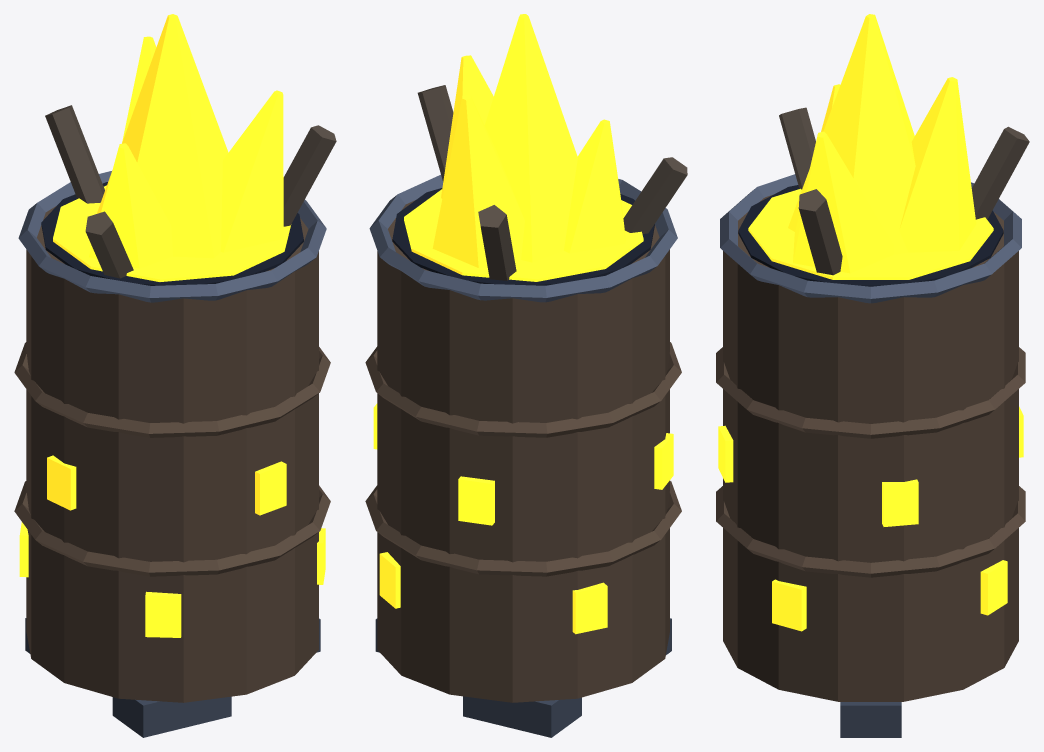
File: hw_fire_barrel.glb
The picture shows the model from 3 angles, left to right: view 1: azimuth 30°, elevation 25°; view 2: azimuth 150°, elevation 25°; view 3: azimuth 270°, elevation 25°; orthographic projection.
Visible parts, largest first — view 1: drum, fire, stick, rim, brick, soot; view 2: drum, fire, rim, stick, brick, soot; view 3: drum, fire, rim, stick, soot, brick.
Part boxes in pixels (x1,y1,x2,y2): drum: (14,206,330,702); fire: (19,14,325,637); stick: (45,105,336,278); rim: (18,171,326,302); brick: (25,618,320,737); soot: (41,182,303,285); drum: (365,193,681,702); fire: (373,14,673,634); rim: (369,174,677,302); stick: (417,85,687,280); brick: (375,618,671,737); soot: (392,188,654,285); drum: (716,194,1025,701); fire: (718,14,1023,631); rim: (720,174,1021,303); stick: (779,107,1029,275); soot: (738,185,1003,286); brick: (840,702,901,737).
Bounding box in the file's own units: 0.622 × 1.42 × 0.6143.
